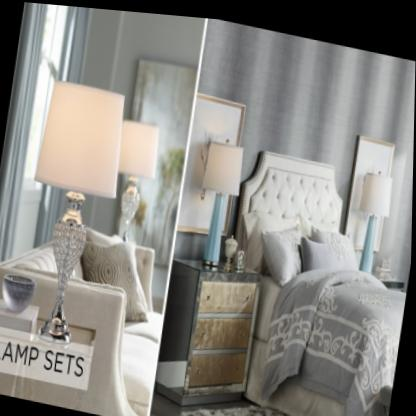Lamp: (10, 75, 130, 347), (189, 131, 247, 265), (112, 118, 163, 240), (350, 157, 396, 267)
Nightstand: (156, 247, 262, 415)
